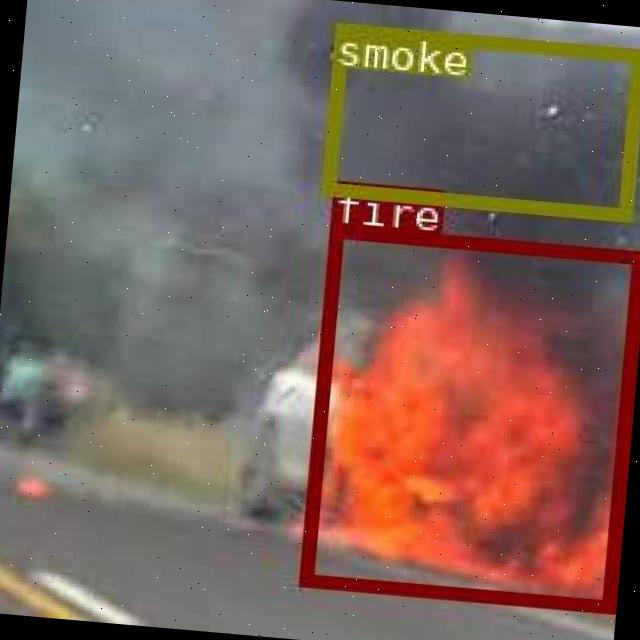fire: (296, 221, 640, 608)
smoke: (319, 20, 640, 217)
